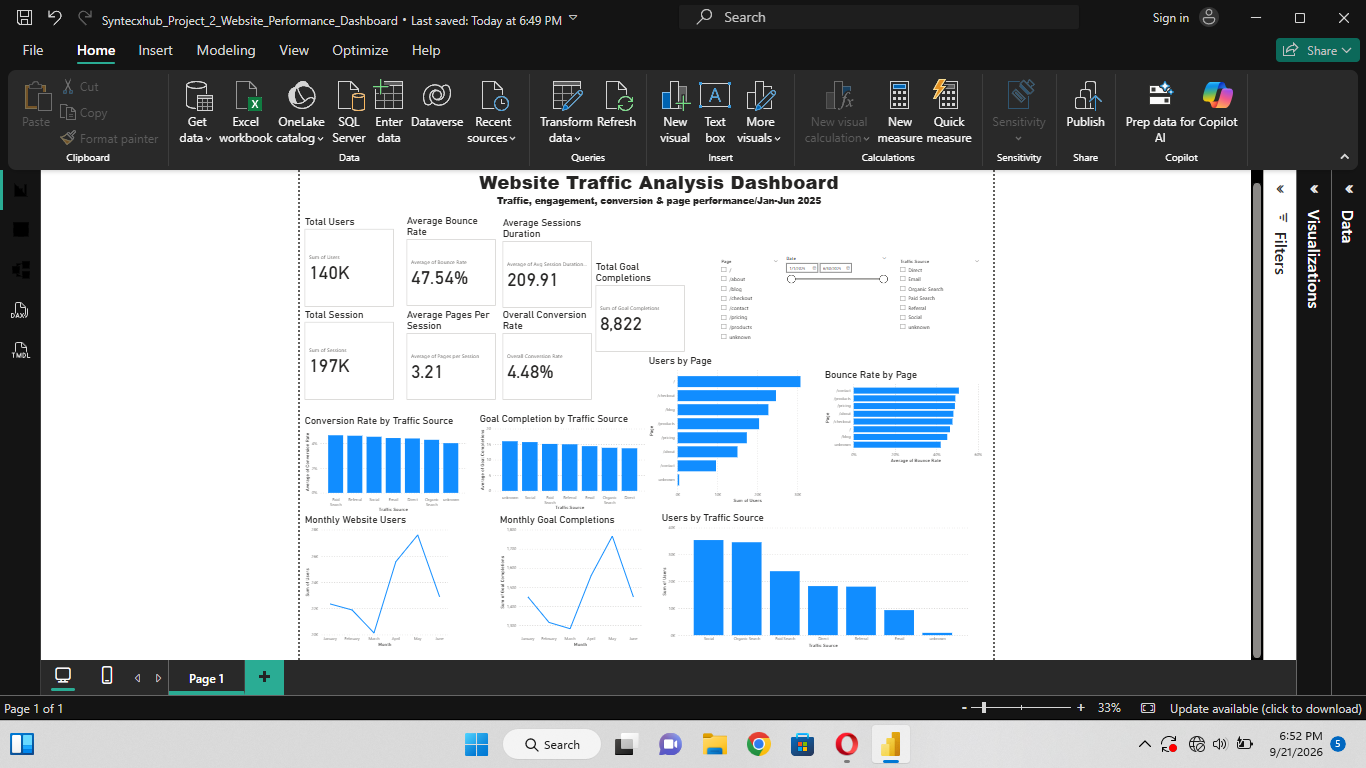

This screenshot's page, from the dashboard's own definition file:
{"tool":"powerbi","page":{"name":"Page 1","canvas":[2100,1500],"ordinal":0},"visuals":[{"type":"cardVisual","title":"Total Users","fields":{"Data":["Sum(Syntecxhub_Project_2_Website_Tr.Users)"]},"box":[9.7,148.4,280.6,280.6],"z":0},{"type":"cardVisual","title":"Total Session","fields":{"Data":["Sum(Syntecxhub_Project_2_Website_Tr.Sessions)"]},"box":[9.7,429,280.6,280.6],"z":1000},{"type":"cardVisual","title":"Average Bounce Rate","fields":{"Data":["Avg(Syntecxhub_Project_2_Website_Tr.Bounce Rate)"]},"box":[319.4,145.2,280.6,280.6],"z":2000},{"type":"cardVisual","title":"Average Sessions Duration","fields":{"Data":["Avg(Syntecxhub_Project_2_Website_Tr.Avg Session Duration (sec))"]},"box":[609.7,151.6,280.6,280.6],"z":3000},{"type":"cardVisual","title":"Total Goal Completions","fields":{"Data":["Sum(Syntecxhub_Project_2_Website_Tr.Goal Completions)"]},"box":[890.3,283.9,280.6,280.6],"z":4000},{"type":"cardVisual","title":"Average Pages Per Session","fields":{"Data":["Avg(Syntecxhub_Project_2_Website_Tr.Pages per Session)"]},"box":[319.4,429,280.6,280.6],"z":5000},{"type":"cardVisual","title":"Overall Conversion Rate","fields":{"Data":["Syntecxhub_Project_2_Website_Tr.Overall Conversion Rate"]},"box":[609.7,429,280.6,280.6],"z":6000},{"type":"clusteredColumnChart","title":" Users by Traffic Source","fields":{"Category":["Syntecxhub_Project_2_Website_Tr.Traffic Source"],"Y":["Sum(Syntecxhub_Project_2_Website_Tr.Users)"]},"box":[1090.3,1045.2,938.7,416.1],"z":7000},{"type":"clusteredColumnChart","title":"Conversion Rate by Traffic Source","fields":{"Category":["Syntecxhub_Project_2_Website_Tr.Traffic Source"],"Y":["Avg(Syntecxhub_Project_2_Website_Tr.Conversion Rate)"]},"box":[9.7,751.6,500,300],"z":8000},{"type":"clusteredColumnChart","title":"Goal Completion by Traffic Source","fields":{"Category":["Syntecxhub_Project_2_Website_Tr.Traffic Source"],"Y":["Avg(Syntecxhub_Project_2_Website_Tr.Goal Completions)"]},"box":[538.7,745.2,512.9,300],"z":9000},{"type":"clusteredBarChart","title":" Users by Page","fields":{"Category":["Syntecxhub_Project_2_Website_Tr.Page"],"Y":["Sum(Syntecxhub_Project_2_Website_Tr.Users)"]},"box":[1051.6,571,532.3,454.8],"z":10000},{"type":"clusteredBarChart","title":"Bounce Rate by Page","fields":{"Category":["Syntecxhub_Project_2_Website_Tr.Page"],"Y":["Avg(Syntecxhub_Project_2_Website_Tr.Bounce Rate)"]},"box":[1583.9,612.9,487.1,290.3],"z":11000},{"type":"lineChart","title":"Monthly Website Users","fields":{"Category":["Syntecxhub_Project_2_Website_Tr.Date.Variation.Date Hierarchy.Month"],"Y":["Sum(Syntecxhub_Project_2_Website_Tr.Users)"]},"box":[9.1,1050,445.5,409.1],"z":12000},{"type":"lineChart","title":"Monthly Goal Completions","fields":{"Category":["Syntecxhub_Project_2_Website_Tr.Date.Variation.Date Hierarchy.Month"],"Y":["Sum(Syntecxhub_Project_2_Website_Tr.Goal Completions)"]},"box":[600,1050,440.9,409.1],"z":13000},{"type":"slicer","fields":{"Values":["Syntecxhub_Project_2_Website_Tr.Traffic Source"]},"box":[1806.5,274.2,264.5,290.3],"z":14000},{"type":"slicer","fields":{"Values":["Syntecxhub_Project_2_Website_Tr.Page"]},"box":[1264.5,274.2,196.8,290.3],"z":15000},{"type":"slicer","fields":{"Values":["Syntecxhub_Project_2_Website_Tr.Date"]},"box":[1461.3,264.5,329,300],"z":16000},{"type":"textbox","box":[461.3,0,1254.8,145.2],"z":17000}]}

Visuals, with their boxes on the page's 2100x1500 design canvas (x1, y1, x2, y2). These are canvas units, not pixel positions in the 1366x768 screenshot, which may show the page scaled, cropped or inside an application window:
"Total Users" cardVisual: box(10, 148, 290, 429)
"Total Session" cardVisual: box(10, 429, 290, 710)
"Average Bounce Rate" cardVisual: box(319, 145, 600, 426)
"Average Sessions Duration" cardVisual: box(610, 152, 890, 432)
"Total Goal Completions" cardVisual: box(890, 284, 1171, 564)
"Average Pages Per Session" cardVisual: box(319, 429, 600, 710)
"Overall Conversion Rate" cardVisual: box(610, 429, 890, 710)
" Users by Traffic Source" clusteredColumnChart: box(1090, 1045, 2029, 1461)
"Conversion Rate by Traffic Source" clusteredColumnChart: box(10, 752, 510, 1052)
"Goal Completion by Traffic Source" clusteredColumnChart: box(539, 745, 1052, 1045)
" Users by Page" clusteredBarChart: box(1052, 571, 1584, 1026)
"Bounce Rate by Page" clusteredBarChart: box(1584, 613, 2071, 903)
"Monthly Website Users" lineChart: box(9, 1050, 455, 1459)
"Monthly Goal Completions" lineChart: box(600, 1050, 1041, 1459)
slicer - Syntecxhub_Project_2_Website_Tr.Traffic Source: box(1806, 274, 2071, 564)
slicer - Syntecxhub_Project_2_Website_Tr.Page: box(1264, 274, 1461, 564)
slicer - Syntecxhub_Project_2_Website_Tr.Date: box(1461, 264, 1790, 564)
textbox: box(461, 0, 1716, 145)
